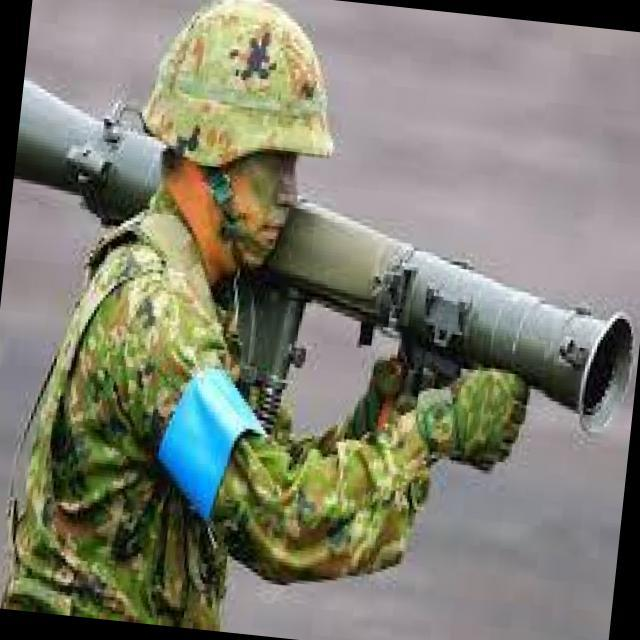rocket: (263, 193, 640, 435)
